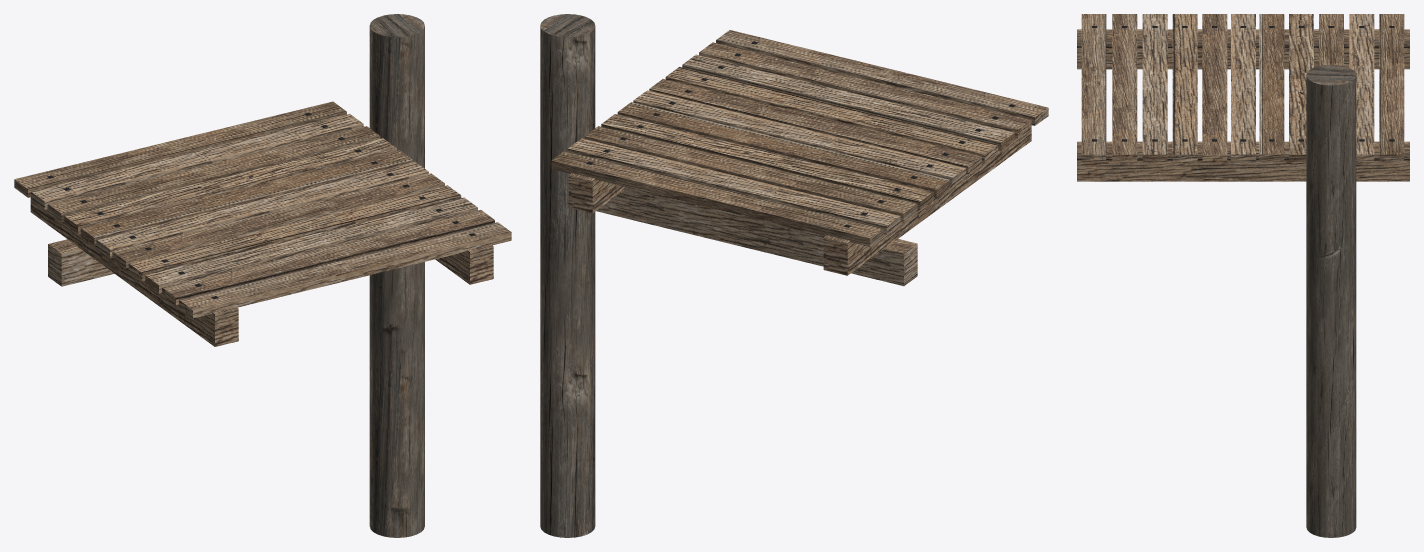
The model's file is Plataforma.fbx.
The picture shows the model from 3 angles, left to right: view 1: azimuth 30°, elevation 25°; view 2: azimuth 150°, elevation 25°; view 3: azimuth 270°, elevation 25°; orthographic projection. The views are drawn at different scales.
Parts seen in each view (by area): view 1: Plataforma 4x4, Columna, Viga; view 2: Plataforma 4x4, Columna, Viga; view 3: Plataforma 4x4, Columna.
Part boxes in pixels (<box>): Plataforma 4x4: <box>14,101,511,346</box>; Columna: <box>369,14,424,537</box>; Viga: <box>48,239,114,286</box>; Plataforma 4x4: <box>551,30,1048,275</box>; Columna: <box>540,14,595,537</box>; Viga: <box>596,187,917,286</box>; Plataforma 4x4: <box>1077,14,1409,181</box>; Columna: <box>1306,64,1356,537</box>.
Size of the model in its own units: 460 by 600 by 400.
Materials: 3 (2 with a texture image).
